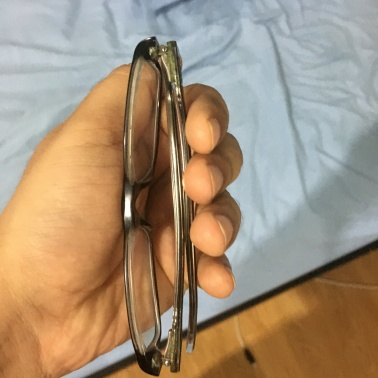glasses: (92, 40, 232, 366)
